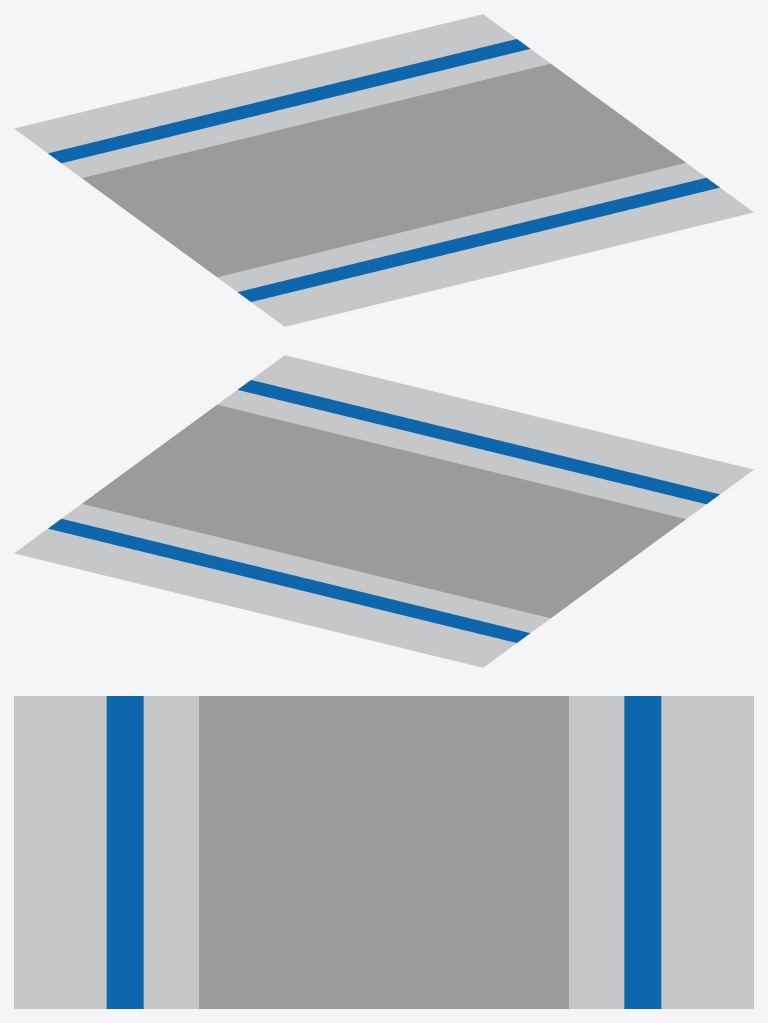
The model's file is Ceiling_type_A_021.fbx.
3 renders of one model, top to bottom at view 1: azimuth 30°, elevation 25°; view 2: azimuth 150°, elevation 25°; view 3: azimuth 270°, elevation 25°, orthographic. The views are drawn at different scales.
Parts seen in each view (by area): view 1: Ceiling_type_A_021; view 2: Ceiling_type_A_021; view 3: Ceiling_type_A_021.
Boxes of the visible parts, bbox=[...] form: Ceiling_type_A_021: bbox=[14, 14, 753, 326]; Ceiling_type_A_021: bbox=[14, 355, 753, 667]; Ceiling_type_A_021: bbox=[14, 696, 753, 1008].
Size of the model in its own units: 400 by 400 by 5.71.
